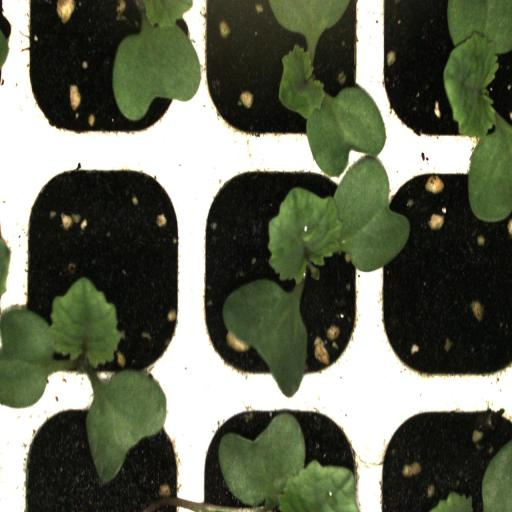noseedling: (374, 163, 512, 394)
seedling: (191, 156, 379, 395), (11, 153, 194, 397), (192, 1, 374, 165), (371, 1, 512, 168)
